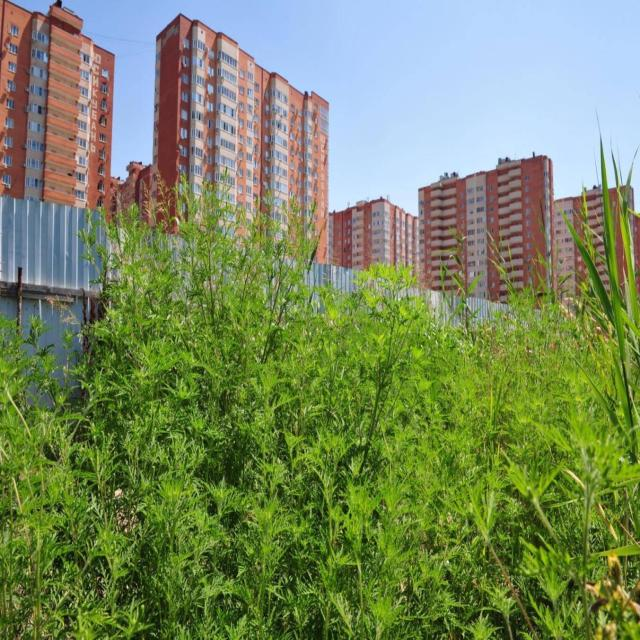ambrosia: (170, 173, 324, 424), (84, 194, 198, 462), (348, 246, 437, 533), (140, 481, 250, 634)
